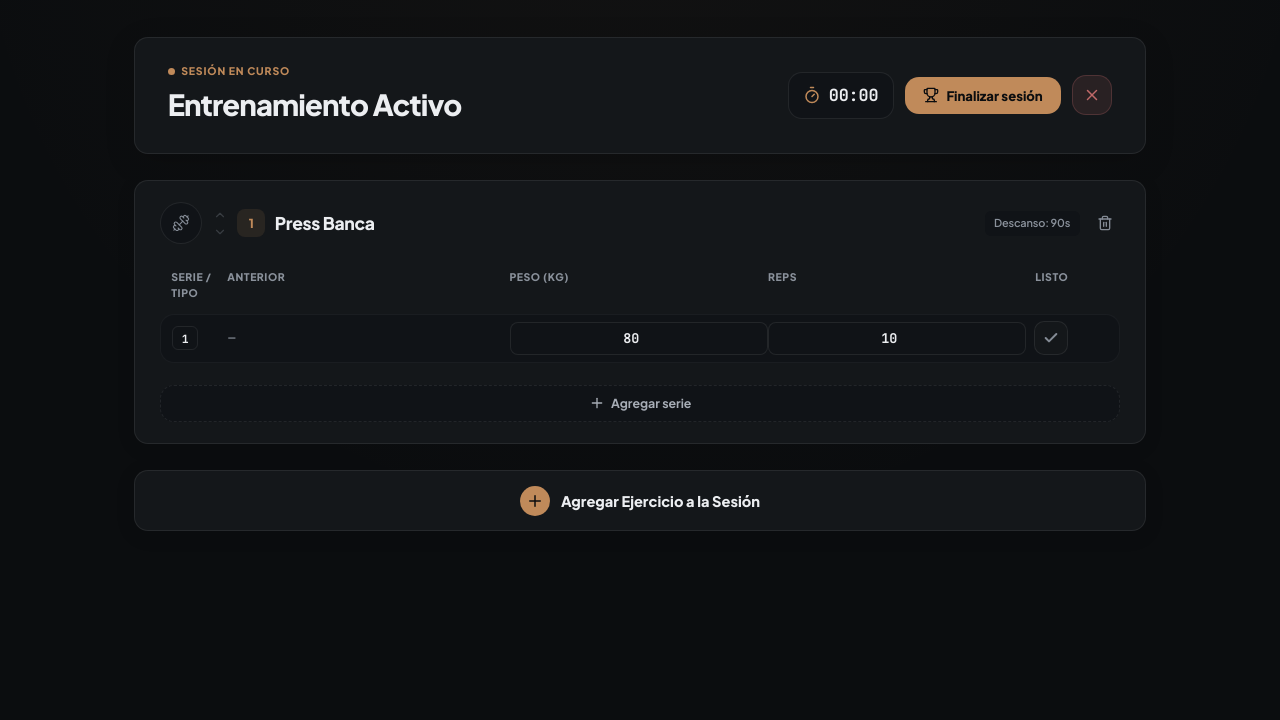
Test: ActiveWorkoutView rest timer › dismisses the rest countdown via Omitir
Click the button named "Marcar serie como completada" at (1051, 338), box left=1034, top=321, right=1068, bottom=355
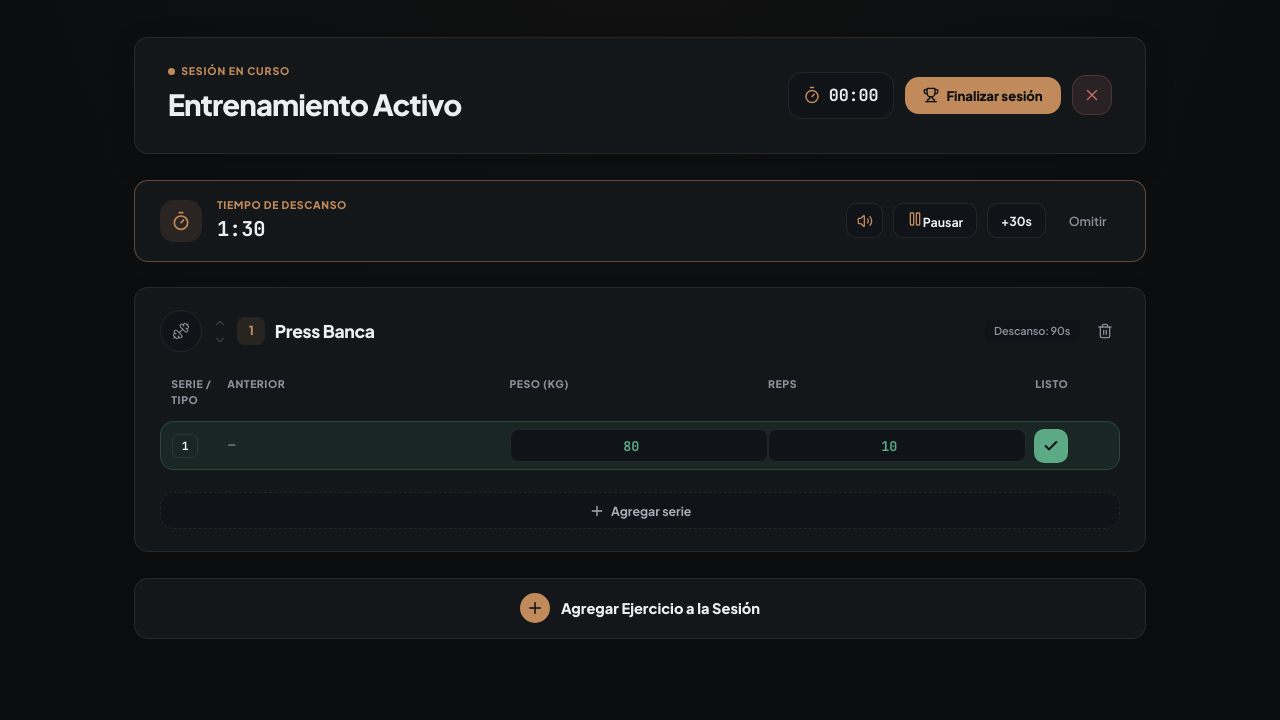
Click the button "Omitir" at (1088, 221), box left=1056, top=203, right=1120, bottom=238
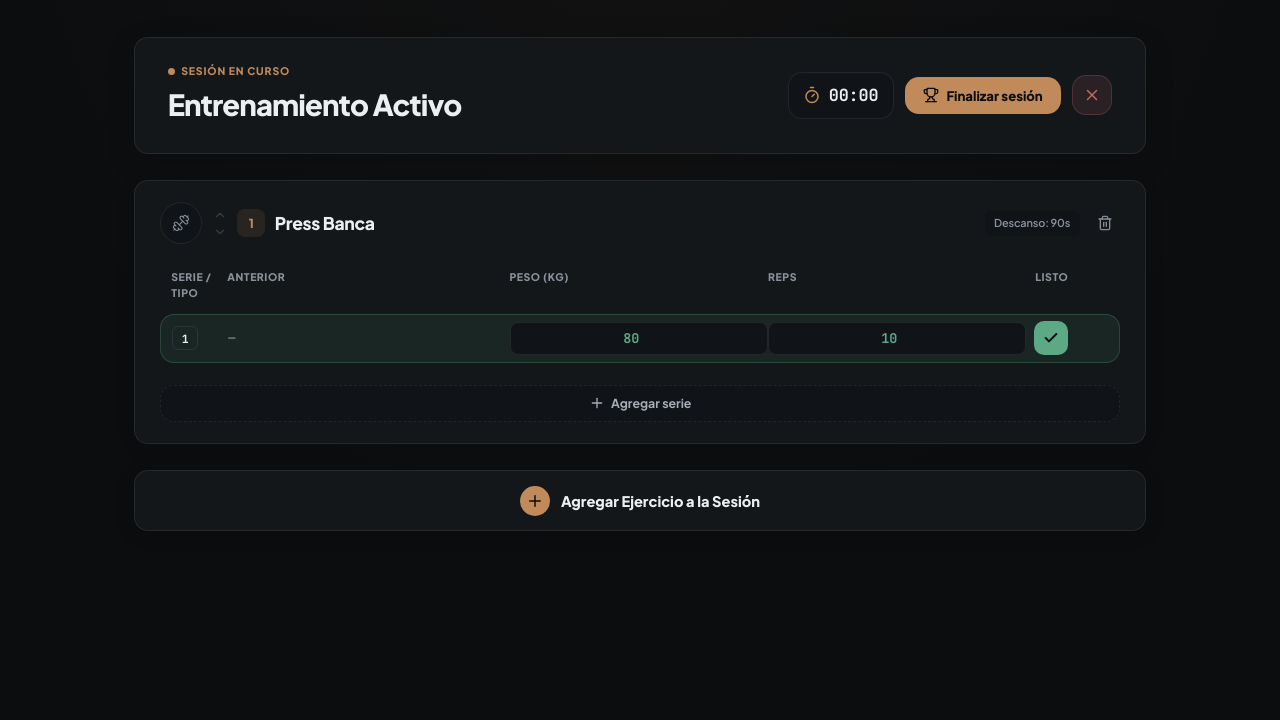
Result: the text "TIEMPO DE DESCANSO" is gone
